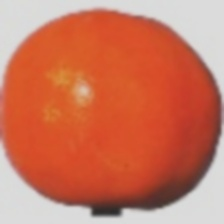tangerine: (43, 12, 215, 179)
